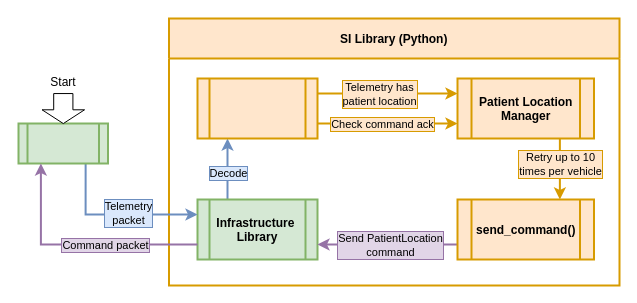
Image size: 637x303. Some labels were removed from this diagram. Each missing label, with the centre of its shape:
"GCS XBee" goes at (x=62, y=143).
"Telemetry Manager" goes at (x=257, y=108).
